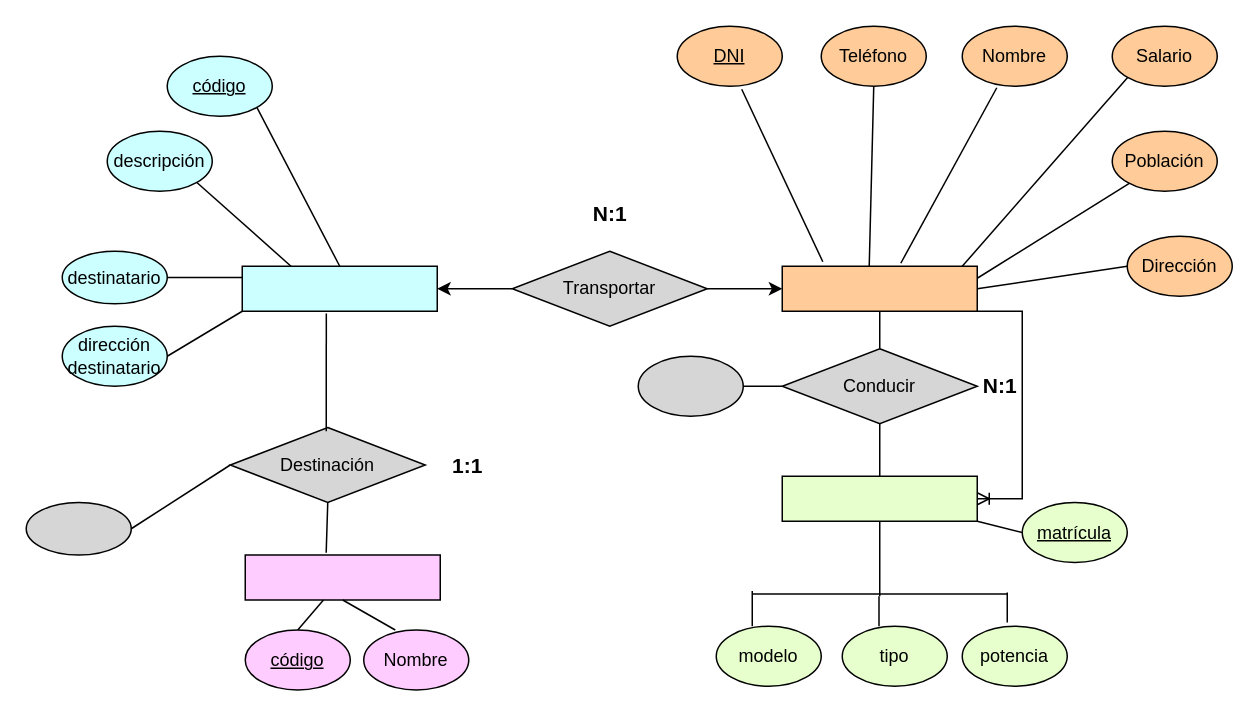
The diagram is 1259 pixels wide and 717 high, and some of its shapes have lost their labels. The shapes that lost their labels are listed below. From the top down, each one's centre as x and y in pixels, then its label:
(x=339, y=288): Paquetes
(x=879, y=288): Camioneros
(x=690, y=385): fecha
(x=879, y=498): Camiones
(x=78, y=528): tracking
(x=342, y=577): Provincias
